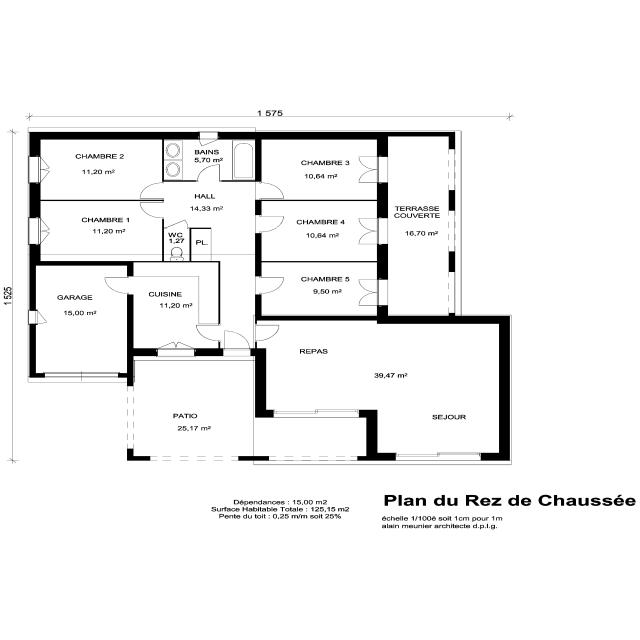door: (355, 215, 381, 247), (221, 328, 253, 352), (356, 155, 381, 185), (356, 278, 381, 306), (102, 274, 134, 295), (254, 274, 287, 294), (253, 321, 282, 343), (256, 213, 286, 234), (194, 322, 224, 342), (258, 180, 286, 200), (136, 180, 164, 200), (138, 200, 166, 218), (196, 164, 223, 182), (29, 309, 50, 325)
window: (391, 450, 486, 462), (269, 408, 364, 420), (121, 389, 138, 455), (446, 148, 460, 192), (446, 208, 460, 252), (448, 270, 459, 314), (376, 215, 390, 248), (152, 348, 197, 358), (28, 215, 42, 246), (28, 155, 42, 186), (377, 156, 391, 186), (122, 423, 136, 451), (77, 372, 122, 379), (42, 372, 84, 379), (195, 132, 223, 140)
zone: (258, 321, 504, 412), (34, 263, 130, 376), (130, 260, 221, 348), (38, 138, 163, 201), (37, 201, 164, 263), (260, 138, 381, 202), (260, 200, 380, 262), (256, 262, 383, 318), (163, 181, 257, 228), (163, 139, 257, 181), (187, 227, 254, 262), (164, 223, 189, 260)
